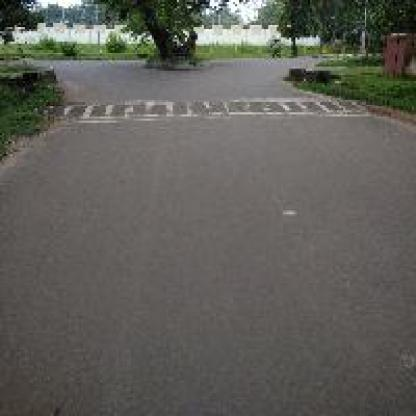Speed Bump: (48, 96, 360, 122)
